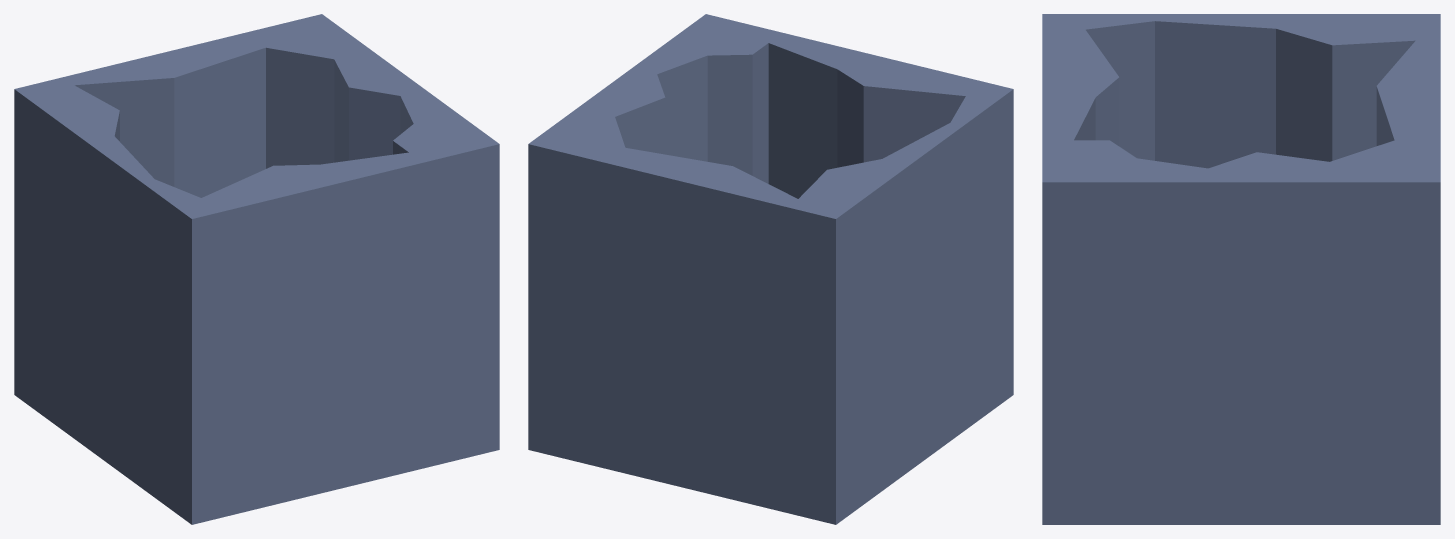
Rendered from floor.008.fbx.
The picture shows the model from 3 angles, left to right: view 1: azimuth 30°, elevation 25°; view 2: azimuth 150°, elevation 25°; view 3: azimuth 270°, elevation 25°; orthographic projection. The views are drawn at different scales.
Visible parts, largest first — view 1: floor.008; view 2: floor.008; view 3: floor.008.
Boxes of the visible parts, bbox=[...] form: floor.008: bbox=[14, 14, 499, 524]; floor.008: bbox=[528, 14, 1013, 524]; floor.008: bbox=[1042, 14, 1440, 524].
Bounding box in the file's own units: 200 × 190 × 200.
